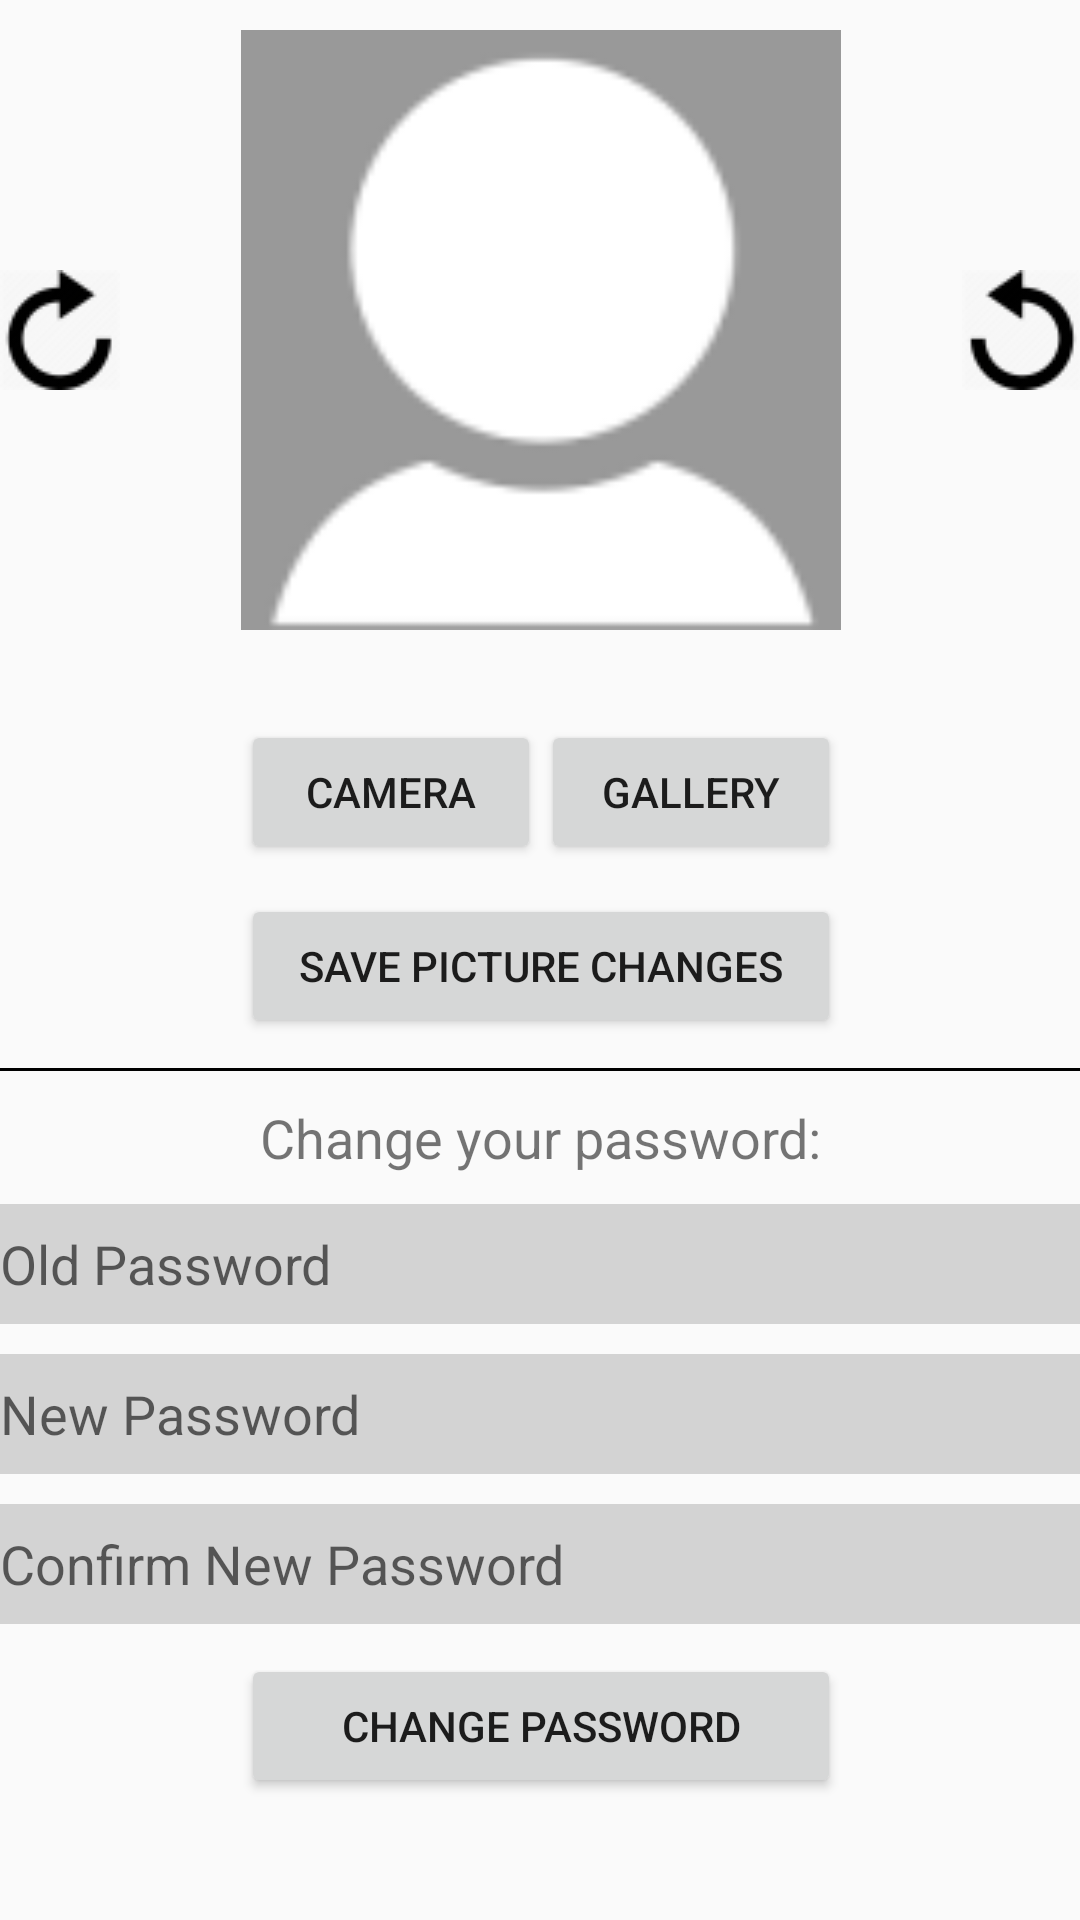

Icons on this 1080 × 1920 Android screen, each with its box as (x1, y1, x2, y2):
rotate left: (970, 270, 1075, 390)
rotate right: (6, 270, 112, 390)
